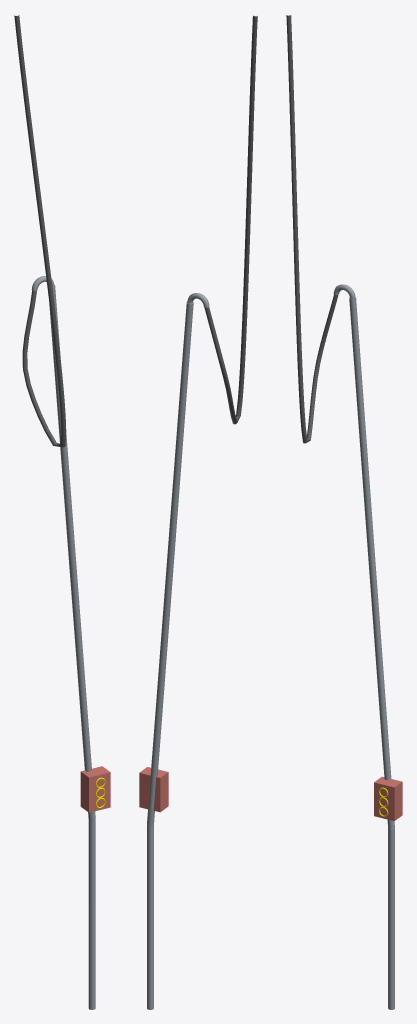
File: standpipe.glb
The picture shows the model from 3 angles, left to right: view 1: azimuth 30°, elevation 25°; view 2: azimuth 150°, elevation 25°; view 3: azimuth 330°, elevation 25°; orthographic projection. The views are drawn at different scales.
Bounding box in the file's own units: 4.33 × 40.82 × 2.52.
